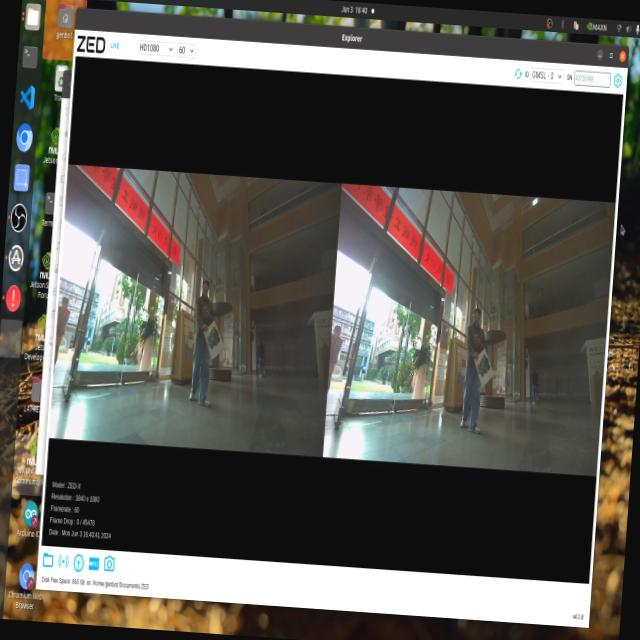green: (471, 350, 497, 384), (204, 325, 226, 355)
